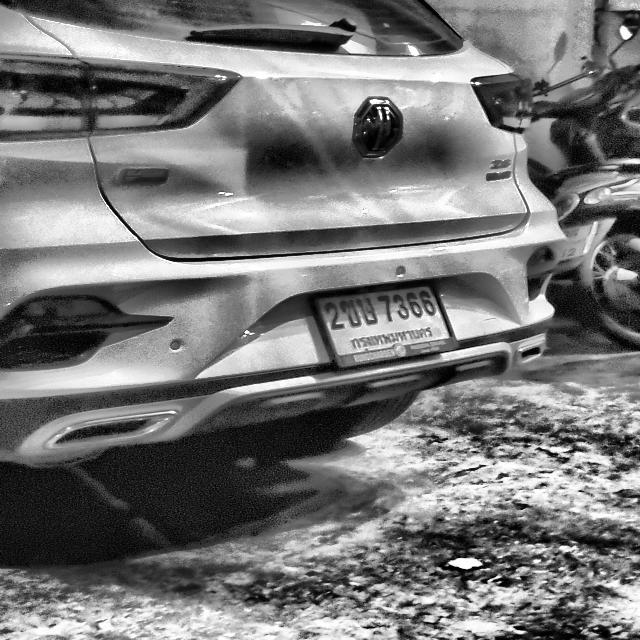license-plate: (301, 277, 458, 372)
